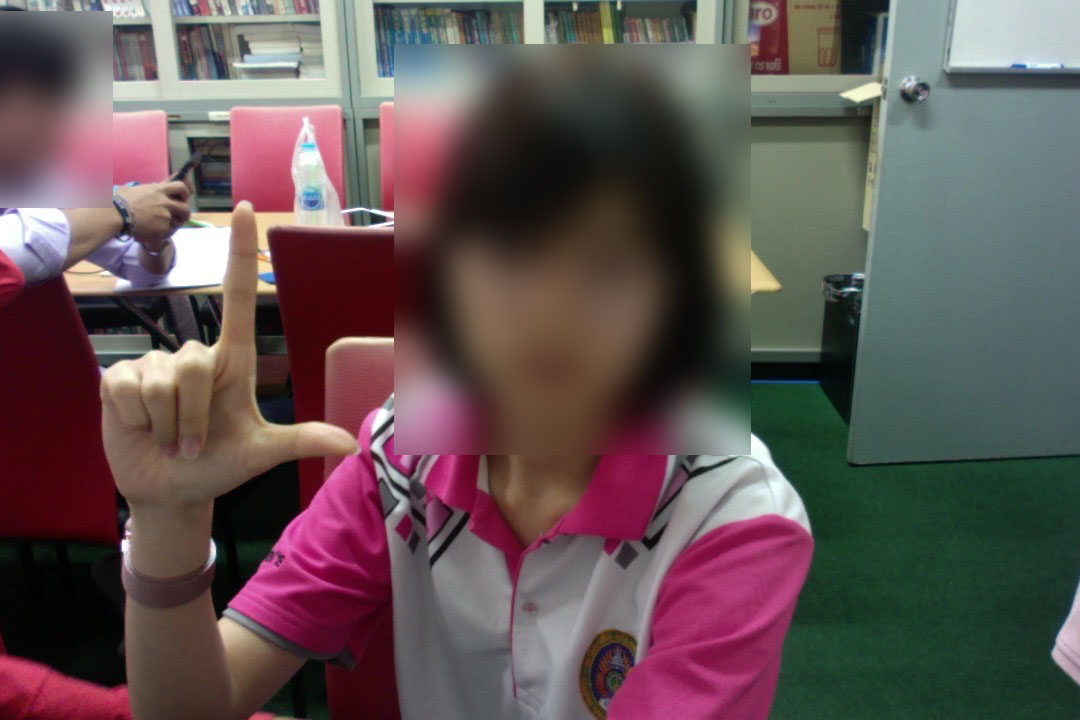lor: (96, 194, 369, 567)
